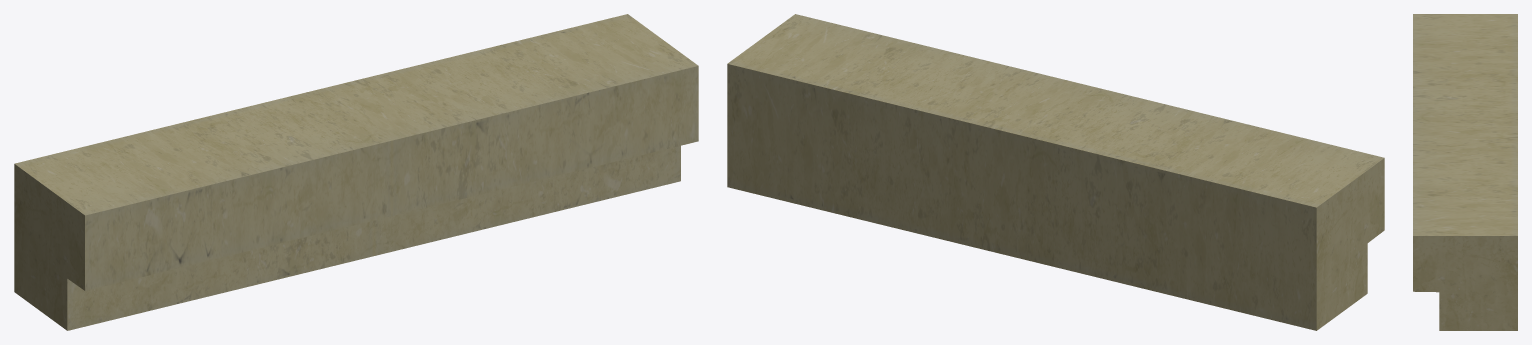
The model's file is Cornice_WhiteBrick_Center.gltf.
3 views of the same model, side by side, from view 1: azimuth 30°, elevation 25°; view 2: azimuth 150°, elevation 25°; view 3: azimuth 270°, elevation 25° (orthographic). The views are drawn at different scales.
Visible parts, largest first — view 1: Cornice_WhiteBrick_Center; view 2: Cornice_WhiteBrick_Center; view 3: Cornice_WhiteBrick_Center.
Boxes of the visible parts, x1,y1,x2,y2 form: Cornice_WhiteBrick_Center: (14, 14, 698, 330); Cornice_WhiteBrick_Center: (727, 14, 1384, 330); Cornice_WhiteBrick_Center: (1413, 14, 1517, 330).
Size of the model in its own units: 2 by 0.4 by 0.4.
Materials: 1 (1 with a texture image).
